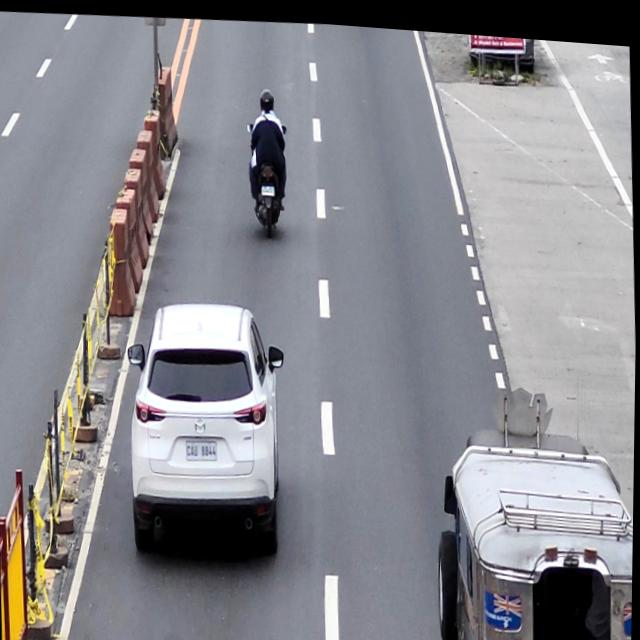Car: (127, 295, 287, 560)
Jeep: (435, 420, 635, 640)
License-Plate: (184, 434, 219, 462), (260, 180, 276, 193)
Motorcycle: (242, 77, 293, 232)
